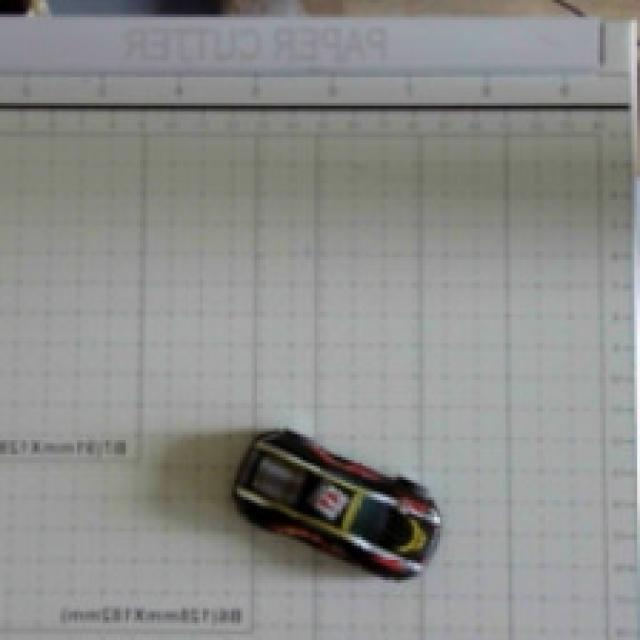Red Car: (186, 369, 476, 596)
